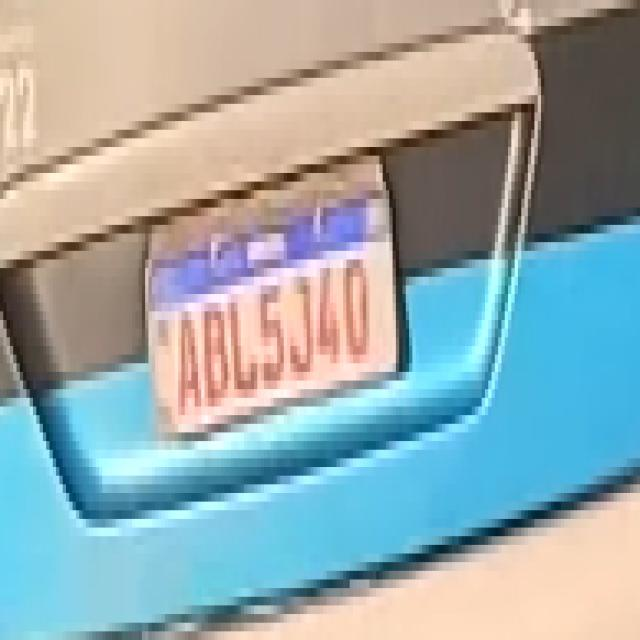Placa_mercosul_carro: (144, 155, 402, 446)
